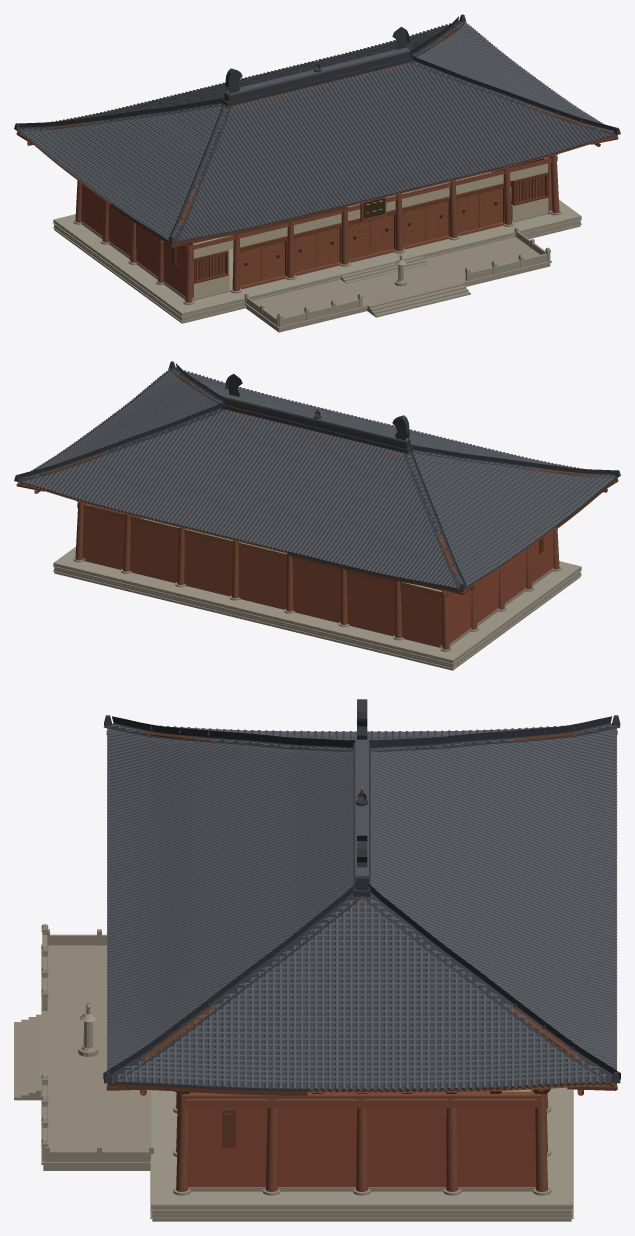
File: tang-02-foguangsi-dongdadian.glb
3 views of the same model, one above another, from view 1: azimuth 30°, elevation 25°; view 2: azimuth 150°, elevation 25°; view 3: azimuth 270°, elevation 25° (orthographic). The views are drawn at different scales.
Visible parts, largest first — view 1: 屋面_筒瓦, 屋面_底瓦, 石作_台基栏杆, 柱额门窗_土朱, 屋面_脊饰, 板门, 月台铺石, 斗栱椽望_深木, 石作_踏道柱础, 走马板_白灰, 檐墙_土朱; view 2: 屋面_筒瓦, 屋面_底瓦, 檐墙_土朱, 屋面_脊饰, 月台铺石, 柱额门窗_土朱, 石作_台基栏杆, 石作_踏道柱础, 斗栱椽望_深木; view 3: 屋面_筒瓦, 屋面_底瓦, 石作_台基栏杆, 檐墙_土朱, 屋面_脊饰, 月台铺石, 柱额门窗_土朱, 石作_踏道柱础, 斗栱椽望_深木.
Boxes of the visible parts, x1=… form: 屋面_筒瓦: x1=19, y1=22, x2=613, y2=243; 屋面_底瓦: x1=19, y1=25, x2=613, y2=241; 石作_台基栏杆: x1=53, y1=216, x2=581, y2=332; 柱额门窗_土朱: x1=75, y1=154, x2=559, y2=302; 屋面_脊饰: x1=14, y1=14, x2=620, y2=243; 板门: x1=240, y1=188, x2=502, y2=285; 月台铺石: x1=53, y1=172, x2=581, y2=327; 斗栱椽望_深木: x1=16, y1=28, x2=618, y2=283; 石作_踏道柱础: x1=53, y1=171, x2=582, y2=321; 走马板_白灰: x1=194, y1=163, x2=548, y2=298; 檐墙_土朱: x1=81, y1=157, x2=552, y2=297; 屋面_筒瓦: x1=21, y1=369, x2=615, y2=590; 屋面_底瓦: x1=21, y1=372, x2=613, y2=587; 檐墙_土朱: x1=82, y1=504, x2=553, y2=647; 屋面_脊饰: x1=14, y1=361, x2=620, y2=591; 月台铺石: x1=54, y1=519, x2=581, y2=660; 柱额门窗_土朱: x1=75, y1=501, x2=559, y2=649; 石作_台基栏杆: x1=53, y1=563, x2=581, y2=670; 石作_踏道柱础: x1=53, y1=518, x2=582, y2=668; 斗栱椽望_深木: x1=16, y1=375, x2=618, y2=594; 屋面_筒瓦: x1=107, y1=724, x2=617, y2=1091; 屋面_底瓦: x1=108, y1=730, x2=615, y2=1089; 石作_台基栏杆: x1=41, y1=924, x2=572, y2=1221; 檐墙_土朱: x1=188, y1=1089, x2=535, y2=1186; 屋面_脊饰: x1=103, y1=699, x2=620, y2=1091; 月台铺石: x1=43, y1=1087, x2=572, y2=1205; 柱额门窗_土朱: x1=176, y1=1091, x2=547, y2=1191; 石作_踏道柱础: x1=14, y1=1014, x2=573, y2=1218; 斗栱椽望_深木: x1=106, y1=730, x2=617, y2=1147.
Size of the model in its own units: 10 by 3.81 by 7.11.
